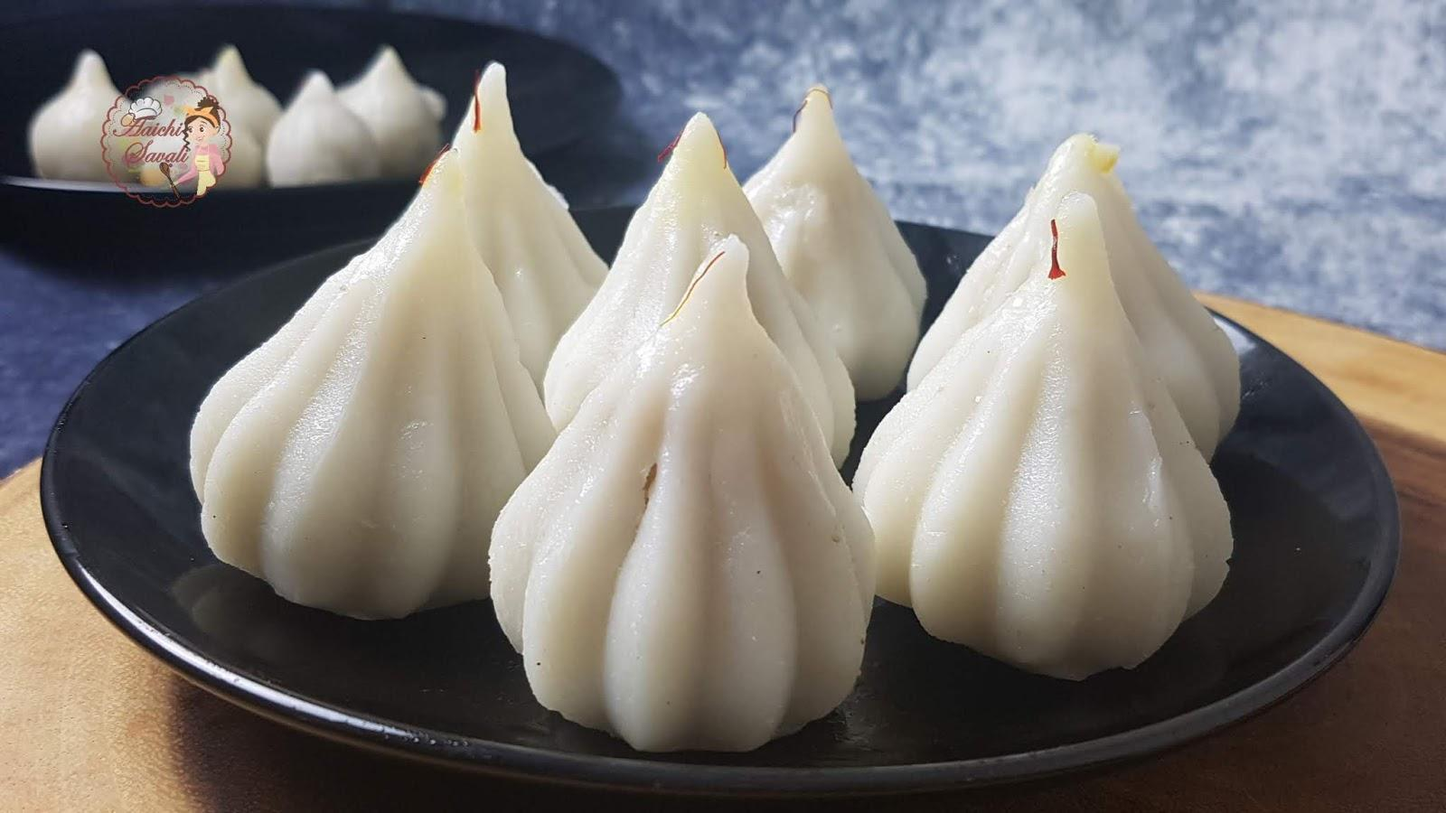modak: (489, 242, 887, 757), (857, 196, 1238, 688), (183, 141, 552, 644), (20, 52, 450, 178)
